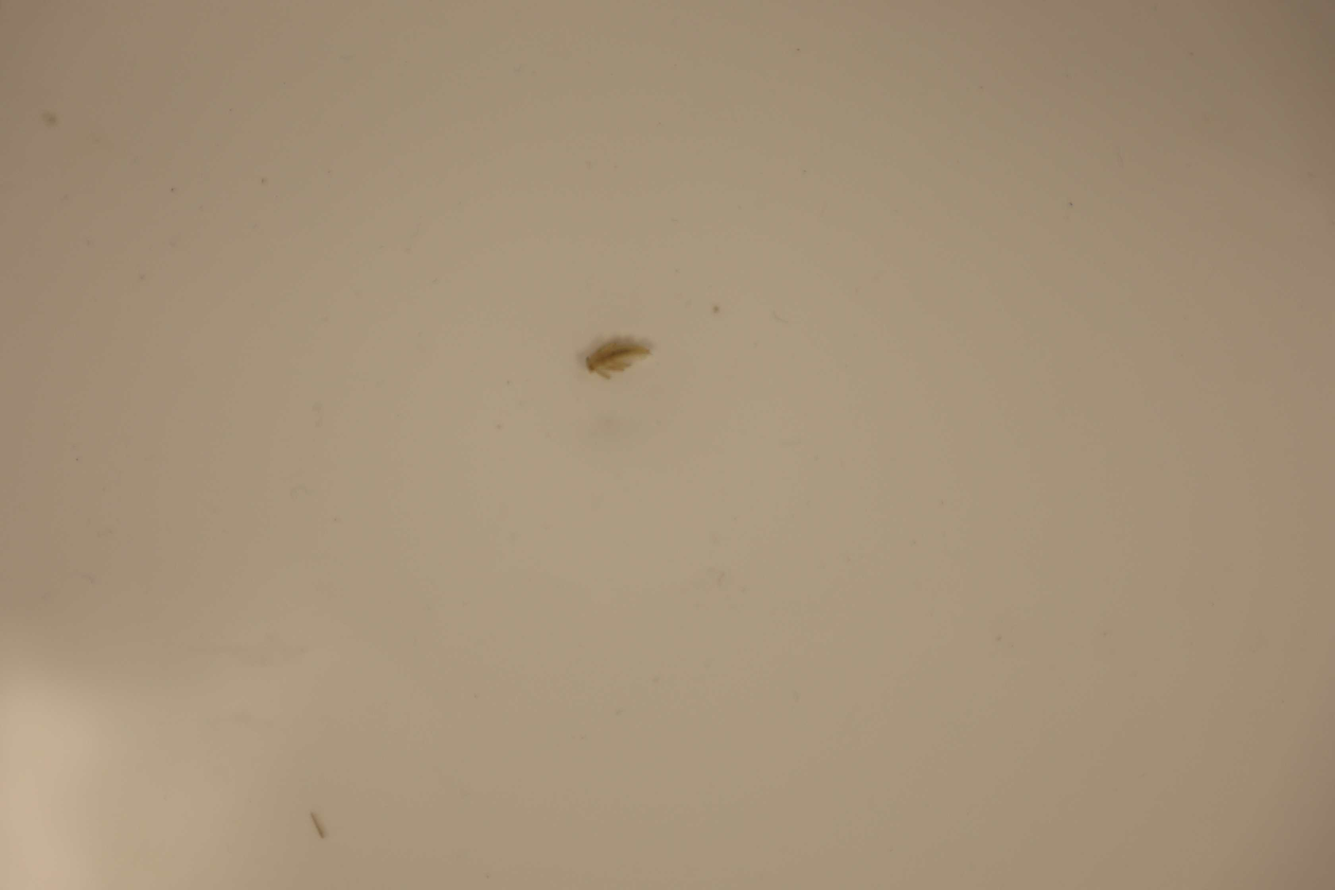Mayfly: (580, 325, 660, 382)
